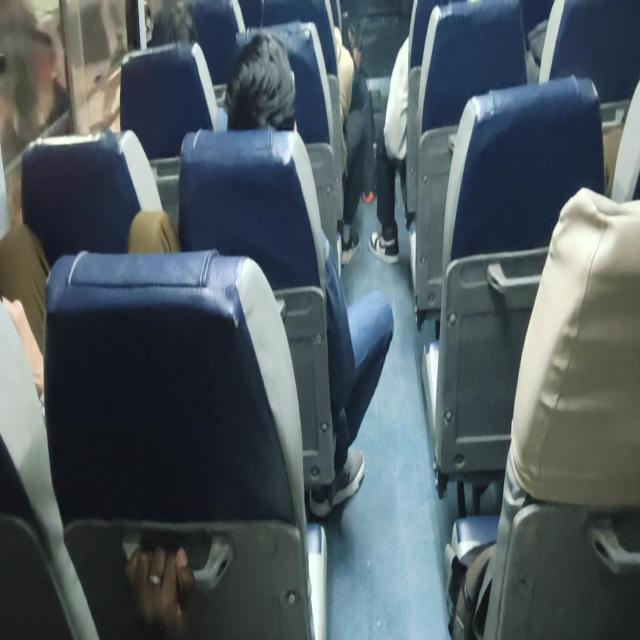person: (228, 46, 302, 144), (133, 0, 200, 47), (305, 0, 344, 49)
